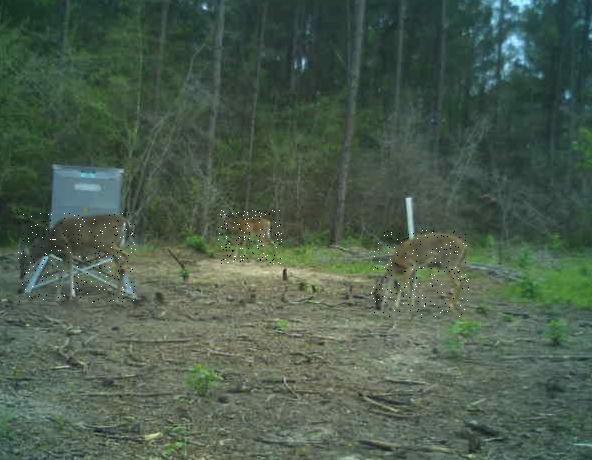Deer: (19, 213, 137, 304), (371, 231, 470, 319), (217, 209, 282, 264)
